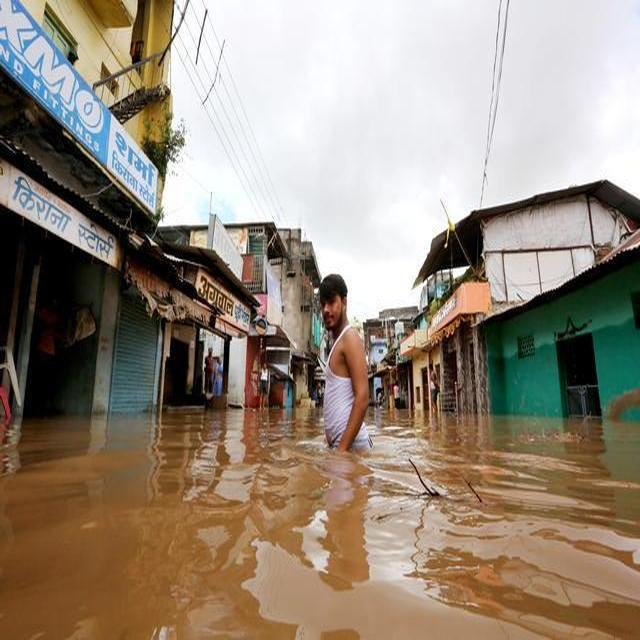Person-RiskLevel3: (309, 271, 379, 462)
